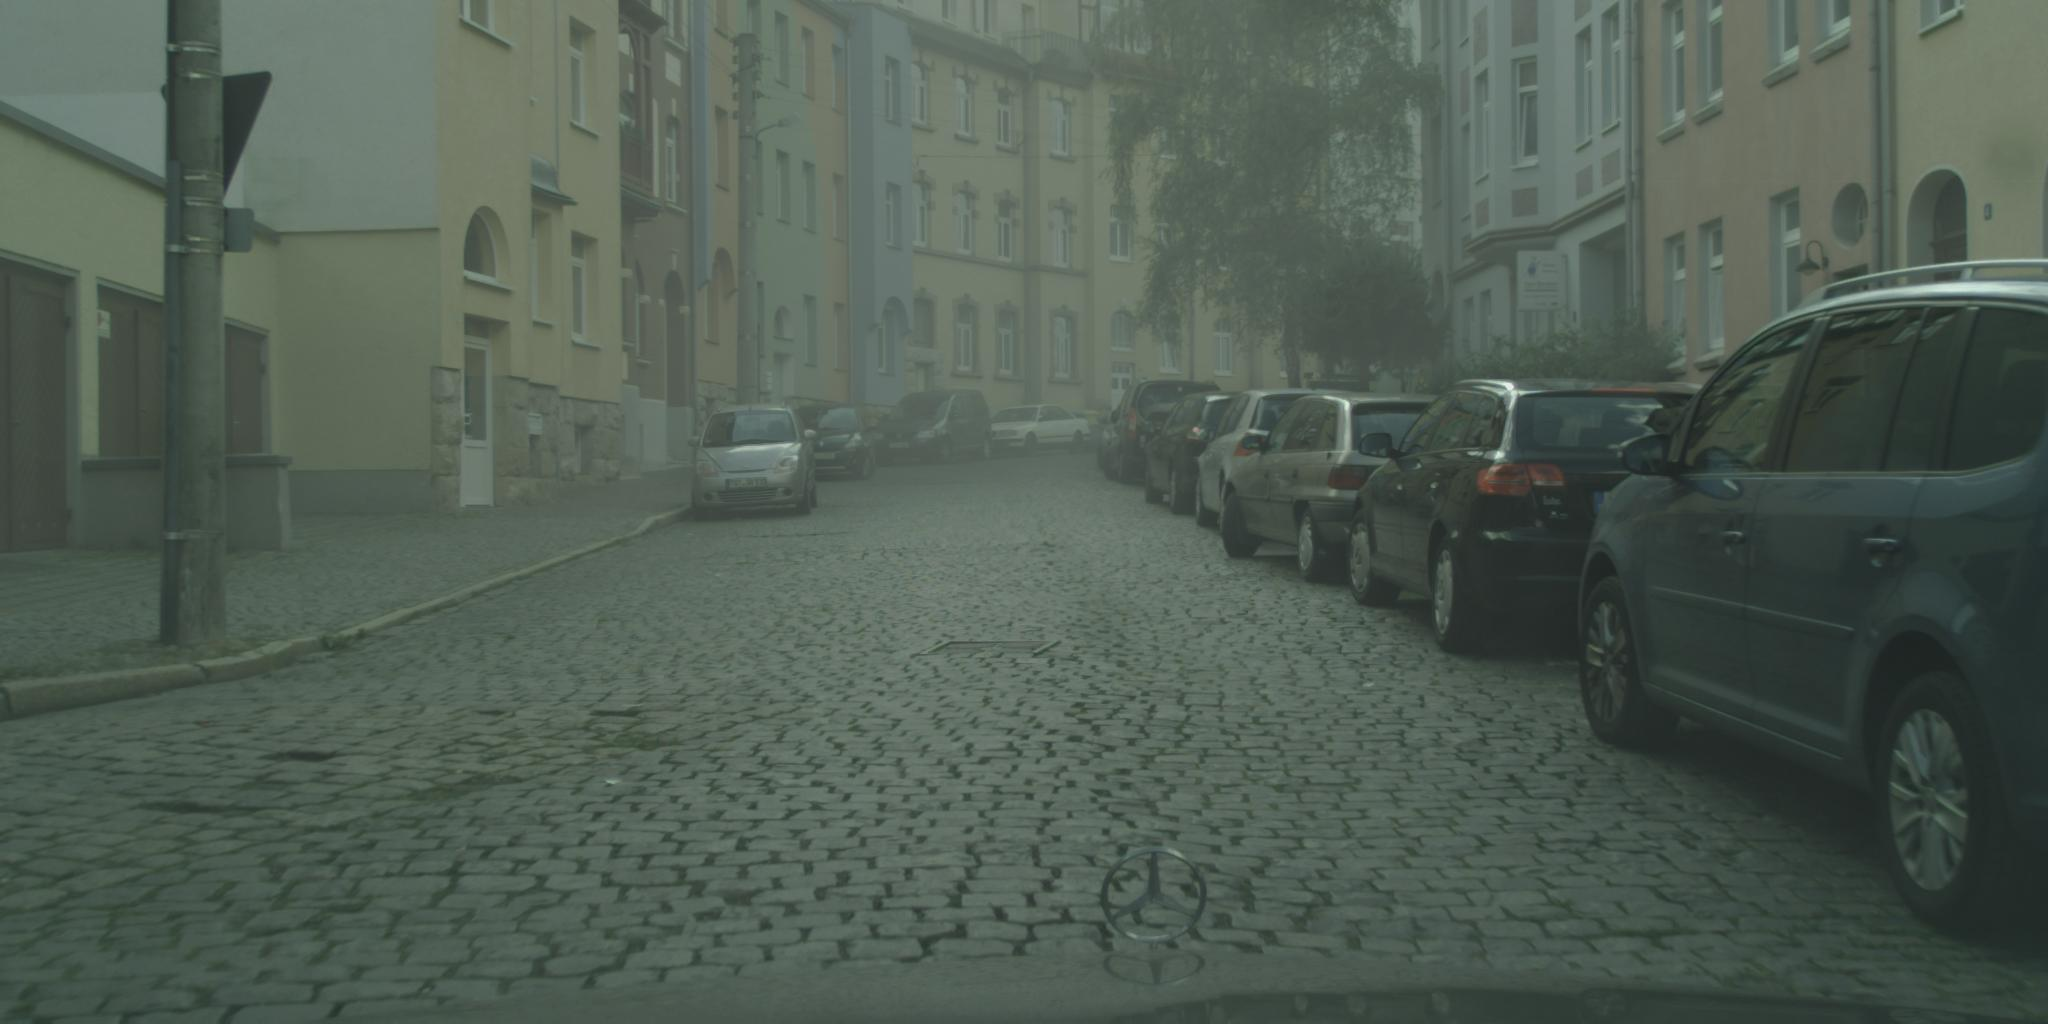car: (1578, 259, 2048, 929), (1347, 377, 1727, 661), (1220, 391, 1445, 581), (1186, 387, 1364, 529), (686, 405, 819, 517), (1142, 391, 1247, 516), (1112, 377, 1223, 485), (872, 389, 995, 469), (795, 404, 880, 481), (982, 405, 1093, 460), (1095, 404, 1123, 481)
